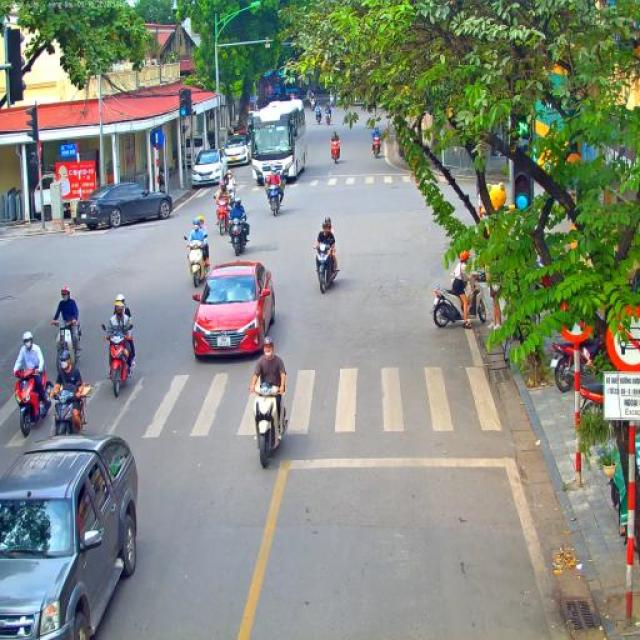bus: (247, 98, 309, 186)
car: (192, 260, 276, 360), (76, 182, 173, 230), (192, 150, 228, 190), (221, 133, 250, 168)
motorcycle: (247, 380, 289, 470), (428, 271, 488, 328), (551, 333, 603, 393), (12, 362, 53, 438), (46, 382, 94, 438), (101, 322, 135, 398), (54, 317, 84, 378), (184, 235, 210, 289), (315, 242, 340, 294), (574, 379, 604, 416), (228, 217, 248, 256), (214, 194, 231, 237), (266, 182, 285, 217), (331, 140, 341, 164), (372, 134, 382, 158), (228, 184, 238, 205), (316, 110, 322, 124), (326, 112, 332, 124), (310, 100, 316, 112), (306, 95, 310, 105)
truck: (0, 434, 140, 640)
